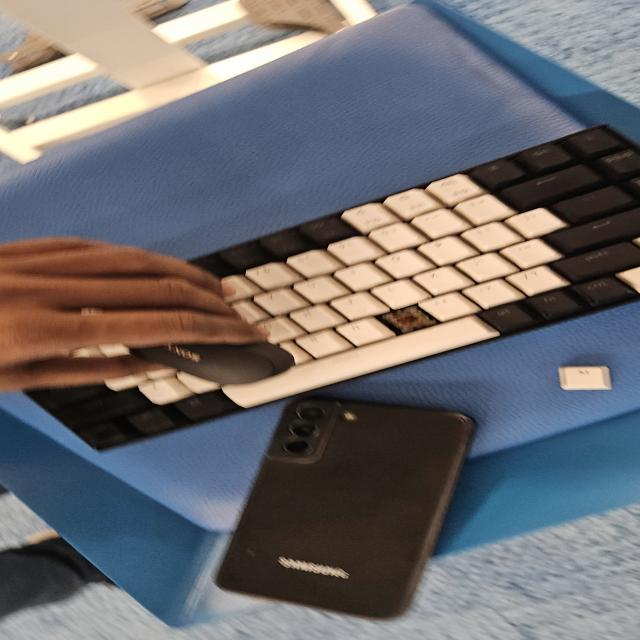C: (389, 312, 433, 330)
